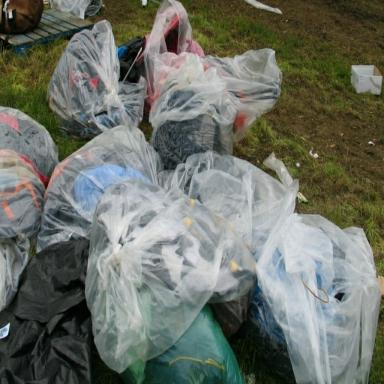plasticbag: (84, 171, 226, 365), (262, 202, 384, 384), (141, 5, 286, 150), (2, 246, 107, 381), (0, 102, 53, 319), (40, 16, 132, 130)
